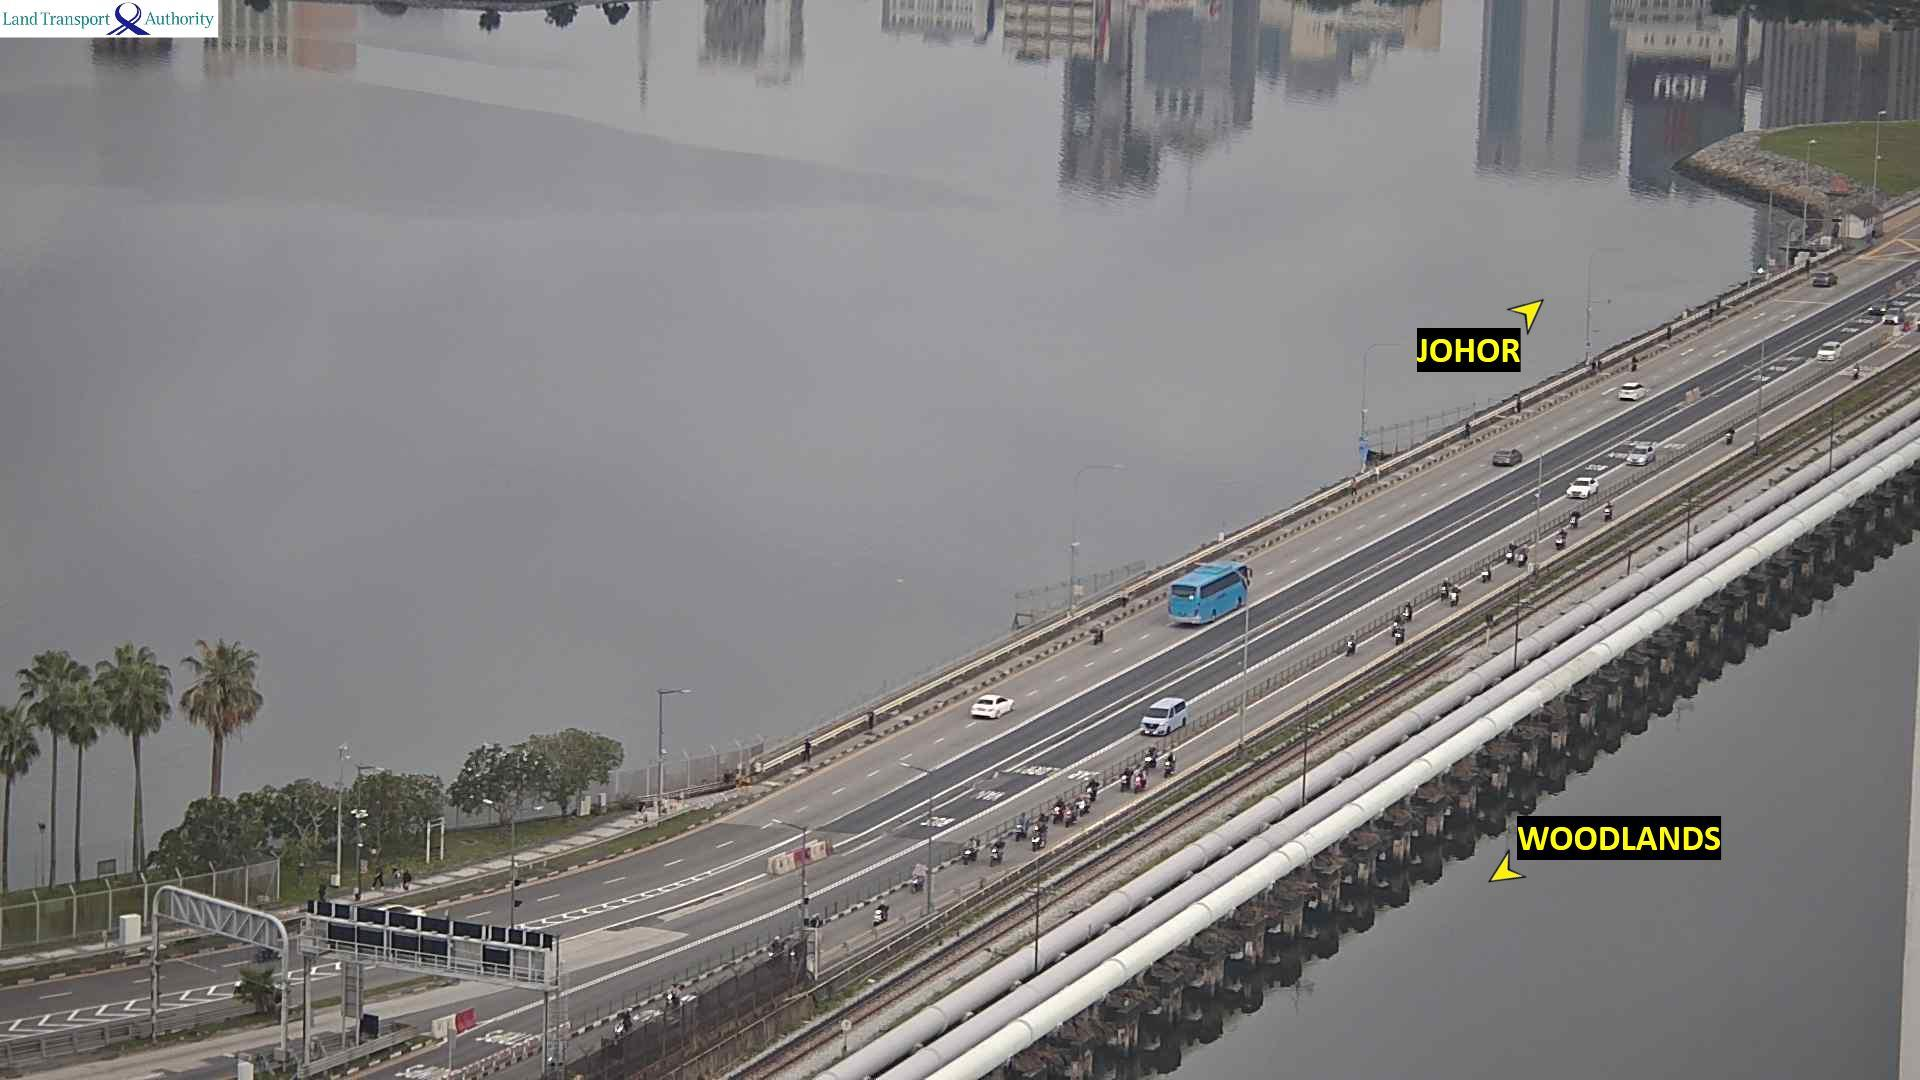vehicle-causeway-johor: (1168, 564, 1249, 628), (969, 695, 1014, 717), (1621, 382, 1646, 400), (1495, 450, 1522, 464), (1813, 272, 1837, 285), (1092, 622, 1106, 641)
vehicle-causeway-singapore: (1141, 699, 1185, 736), (1567, 476, 1601, 497), (1629, 446, 1655, 465), (1817, 342, 1840, 361), (1883, 306, 1904, 324), (873, 899, 890, 922), (913, 865, 926, 890), (1033, 823, 1046, 845), (963, 839, 977, 858), (990, 840, 1004, 861), (1017, 812, 1027, 837), (1087, 778, 1097, 802), (1602, 500, 1614, 521), (1075, 798, 1088, 816), (1063, 803, 1075, 823), (1555, 529, 1567, 549), (1869, 301, 1884, 315), (1164, 754, 1175, 774), (1568, 512, 1581, 527), (1402, 601, 1412, 620), (1452, 584, 1461, 605), (1518, 546, 1527, 566), (1117, 770, 1126, 789), (1052, 796, 1062, 815), (1346, 636, 1356, 654), (1509, 543, 1516, 564), (1145, 748, 1154, 765), (1482, 564, 1491, 582), (1134, 770, 1143, 786), (1726, 427, 1735, 443), (1443, 578, 1449, 599), (1395, 629, 1403, 646)
